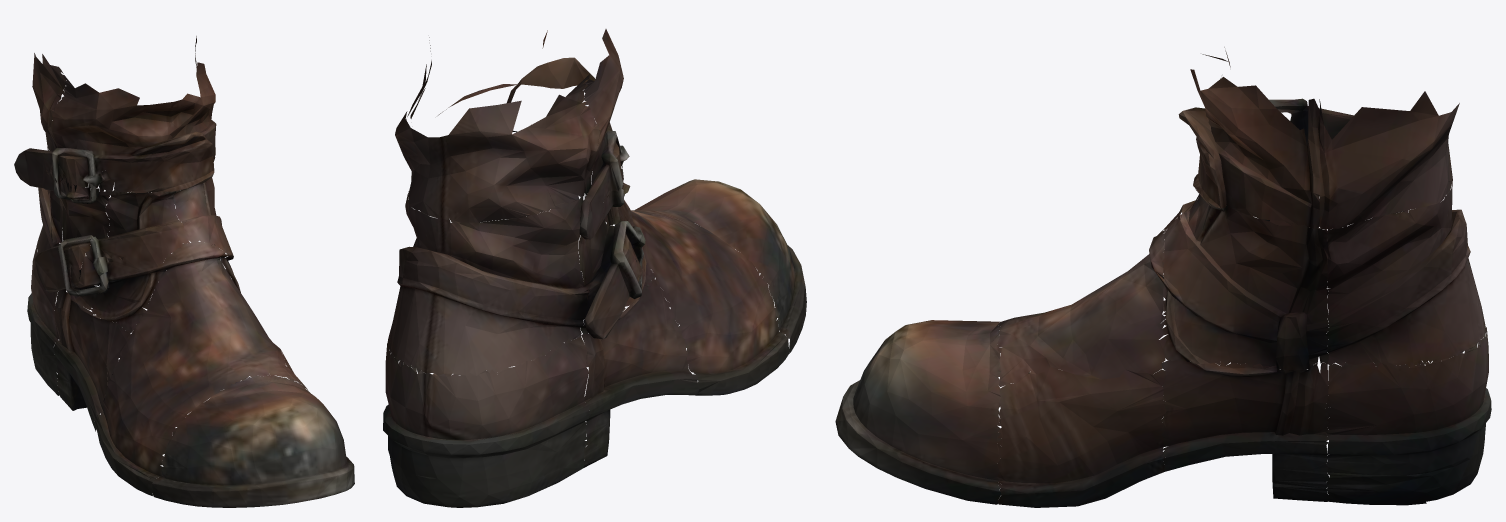
Rendered from a_ranger_boots_L_foot.glb.
The picture shows the model from 3 angles, left to right: view 1: azimuth 30°, elevation 25°; view 2: azimuth 150°, elevation 25°; view 3: azimuth 270°, elevation 25°; orthographic projection. The views are drawn at different scales.
Visible parts, largest first — view 1: geometry_0.001; view 2: geometry_0.001; view 3: geometry_0.001.
Boxes of the visible parts, x1,y1,x2,y2 form: geometry_0.001: (14,36,354,507); geometry_0.001: (383,29,806,507); geometry_0.001: (835,47,1491,507).
Size of the model in its own units: 0.1054 by 0.1776 by 0.2515.
1 material, 1 textured.
